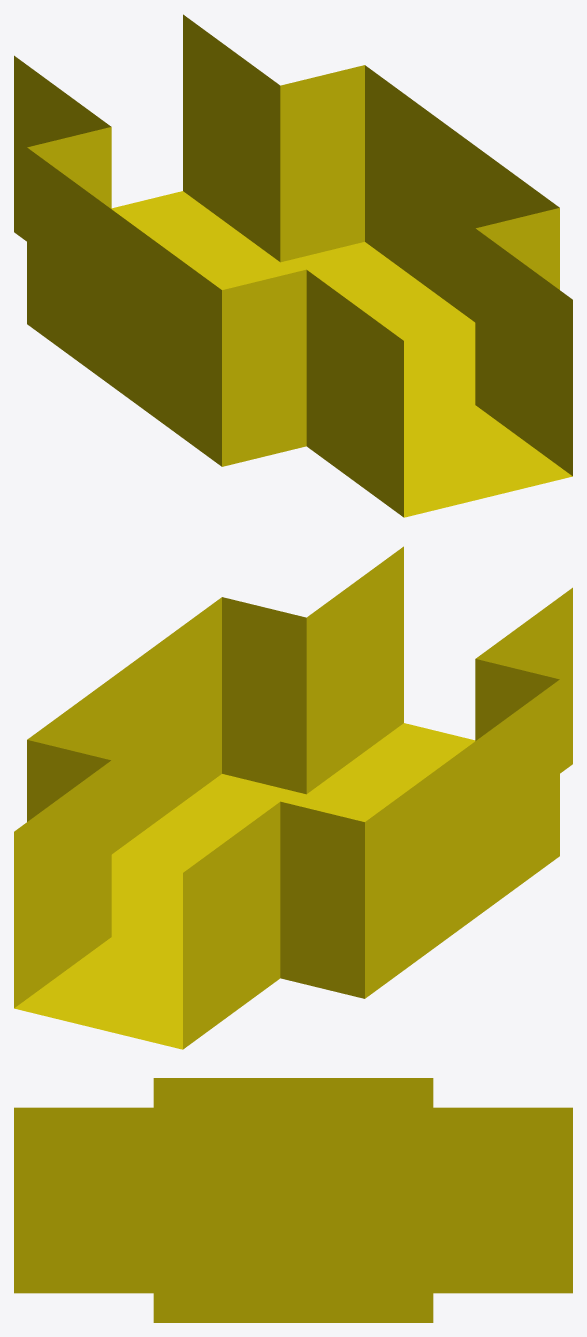
File: hallway_0.glb
The picture shows the model from 3 angles, top to bottom: view 1: azimuth 30°, elevation 25°; view 2: azimuth 150°, elevation 25°; view 3: azimuth 270°, elevation 25°; orthographic projection. The views are drawn at different scales.
Parts seen in each view (by area): view 1: hallway_0; view 2: hallway_0; view 3: hallway_0.
Boxes of the visible parts, bbox=[...] form: hallway_0: bbox=[14, 14, 572, 517]; hallway_0: bbox=[14, 546, 572, 1049]; hallway_0: bbox=[14, 1078, 572, 1322].
Size of the model in its own units: 2 by 1 by 4.
